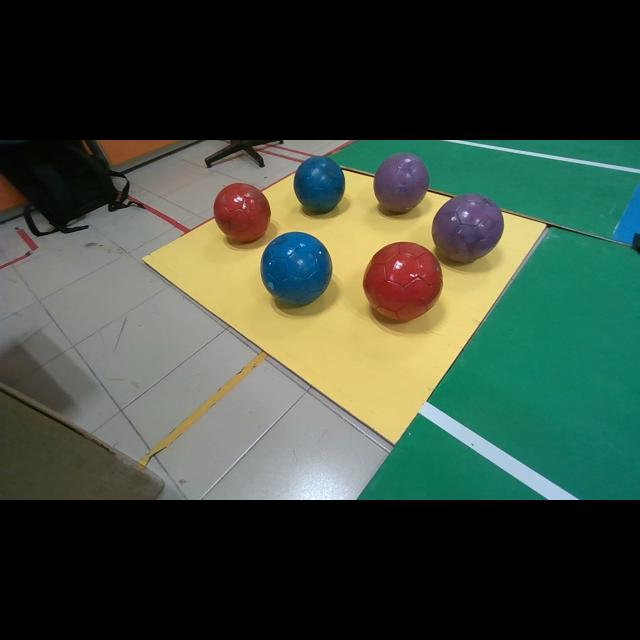B: (260, 232, 332, 305), (294, 156, 345, 213)
P: (431, 194, 504, 262), (374, 152, 430, 212)
R: (362, 241, 442, 321), (214, 182, 271, 241)
